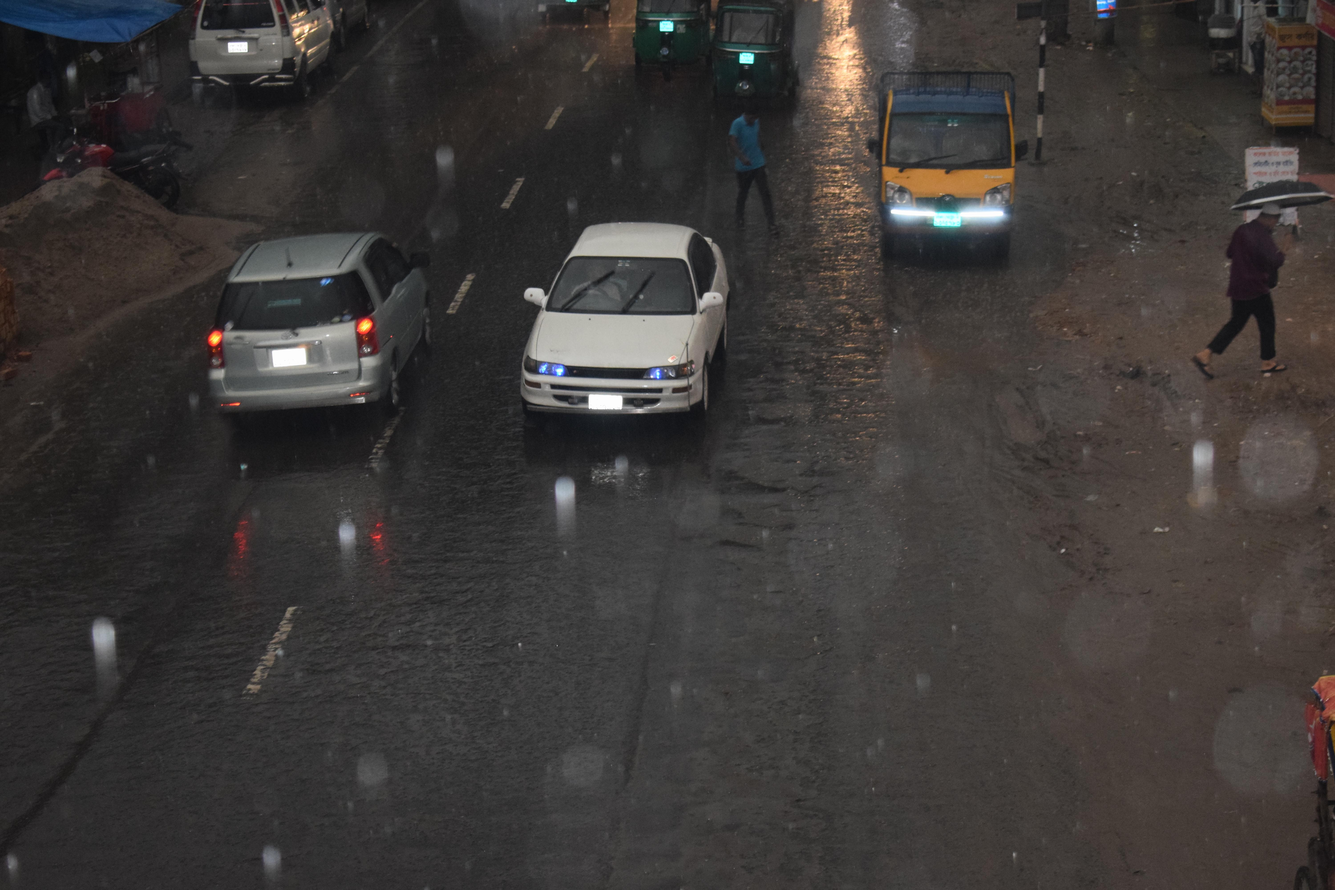Bike: (22, 106, 203, 218)
Car: (161, 206, 465, 469), (473, 206, 780, 456), (160, 0, 364, 111)
Truck: (837, 40, 1057, 302)
